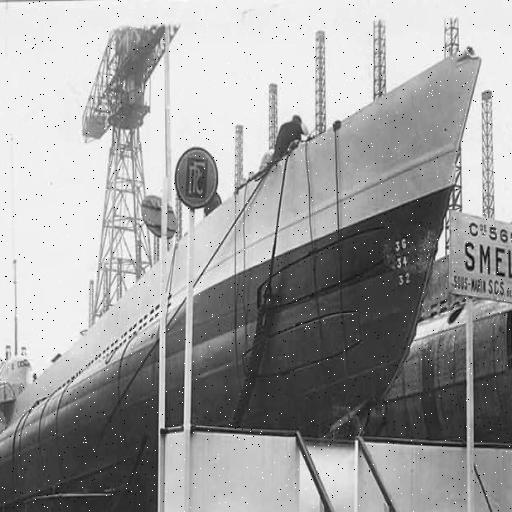submarine: (1, 47, 480, 512)
